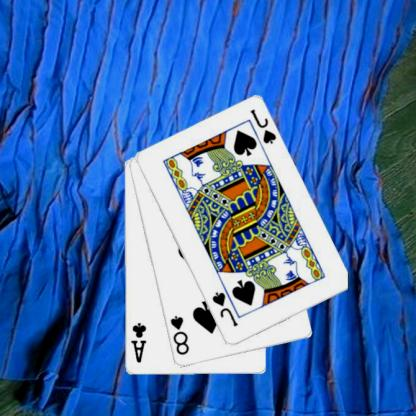8S: (169, 313, 192, 357)
AC: (130, 320, 149, 364)
JS: (249, 106, 279, 146), (210, 290, 241, 328)
